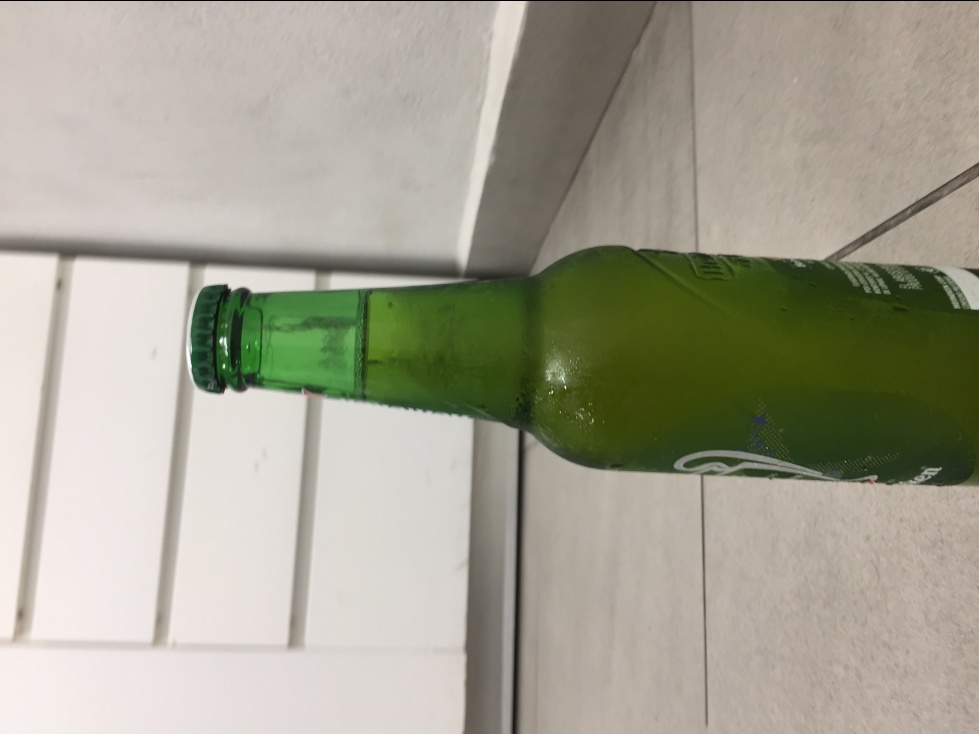heineken: (181, 241, 979, 490)
